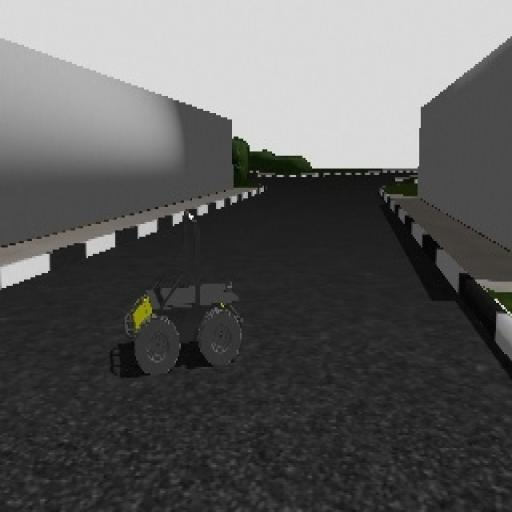huskya200: (112, 204, 247, 382)
